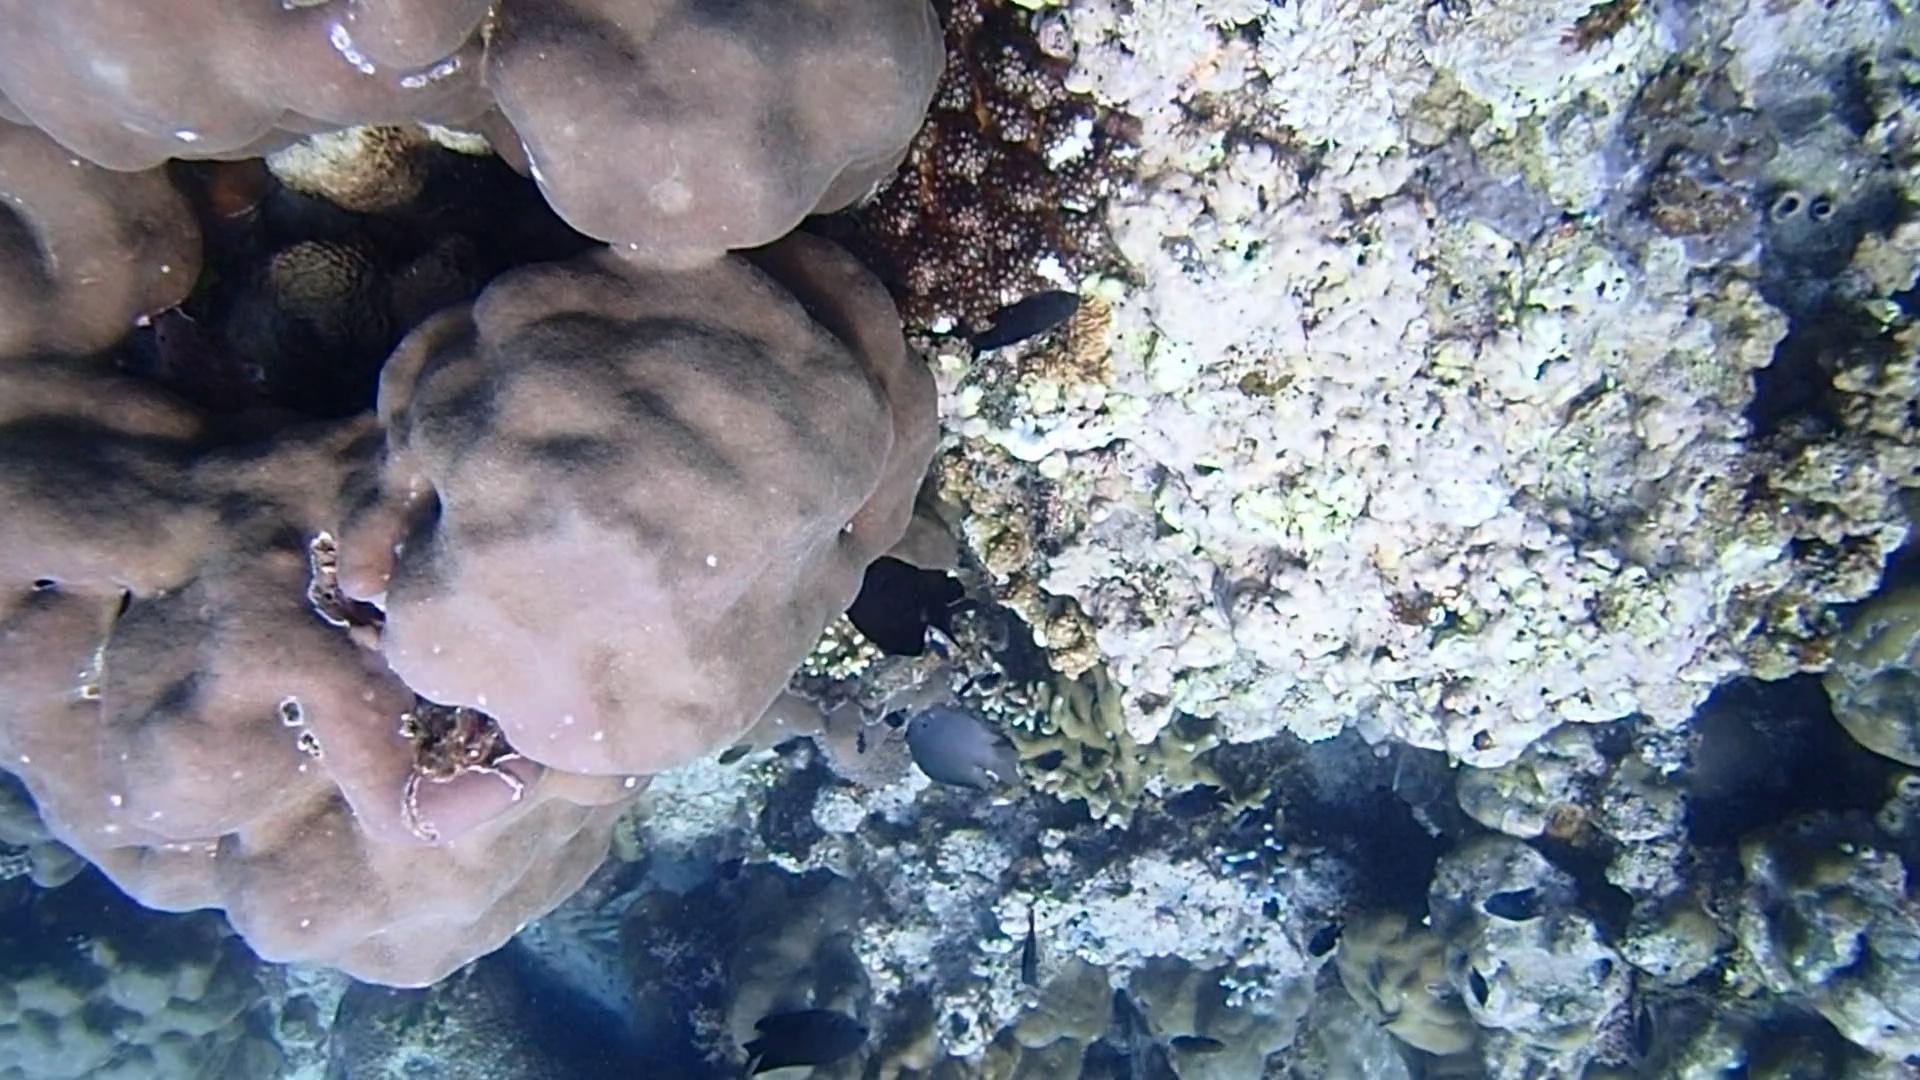Dark Fish: (835, 551, 984, 669), (731, 1005, 877, 1080), (969, 276, 1085, 356), (1154, 778, 1241, 828), (1477, 880, 1553, 930), (1011, 894, 1048, 994), (1300, 913, 1352, 963), (1629, 990, 1663, 1059), (1460, 959, 1497, 1013), (766, 731, 806, 765), (1033, 746, 1067, 781), (876, 702, 910, 736), (851, 720, 869, 764)
Light Fish - Dark Fin: (899, 699, 1026, 802)
